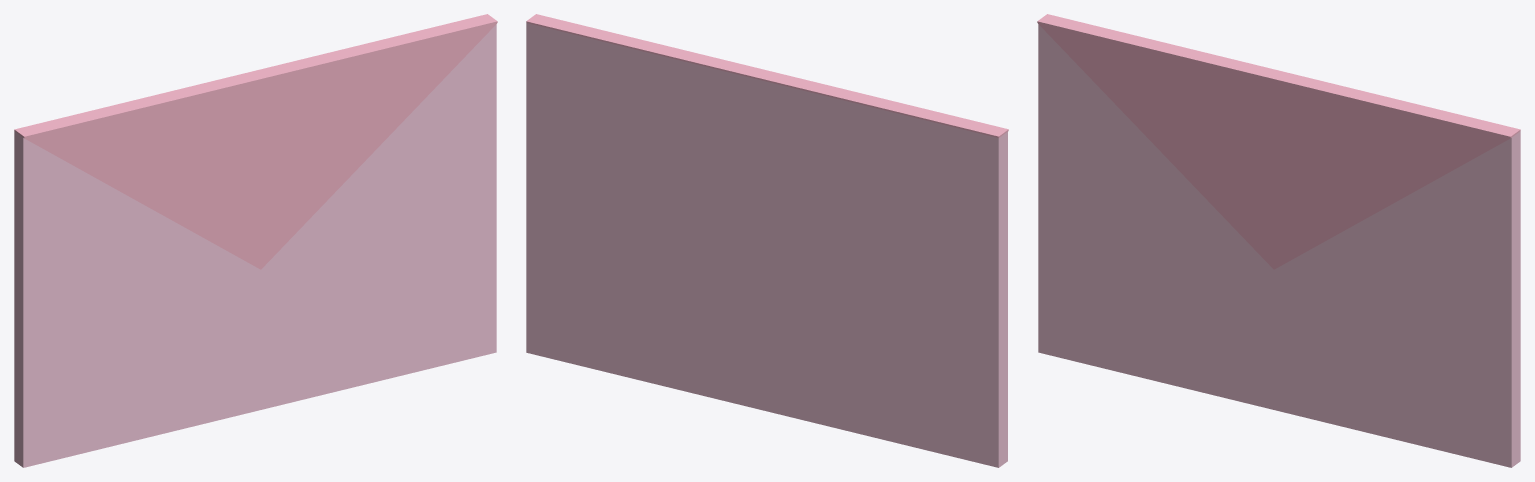
The model's file is letter.fbx.
3 views of the same model, side by side, from view 1: azimuth 30°, elevation 25°; view 2: azimuth 150°, elevation 25°; view 3: azimuth 330°, elevation 25° (orthographic).
Visible parts, largest first — view 1: Cube, Cube.001; view 2: Cube, Cube.001; view 3: Cube, Cube.001.
Part boxes in pixels (bbox=[...]): Cube: bbox=[14, 24, 496, 467]; Cube.001: bbox=[14, 14, 497, 269]; Cube: bbox=[526, 23, 1007, 467]; Cube.001: bbox=[526, 14, 1008, 138]; Cube: bbox=[1038, 24, 1520, 467]; Cube.001: bbox=[1037, 14, 1520, 269].
Bounding box in the file's own units: 2.99 × 2 × 0.1096.
